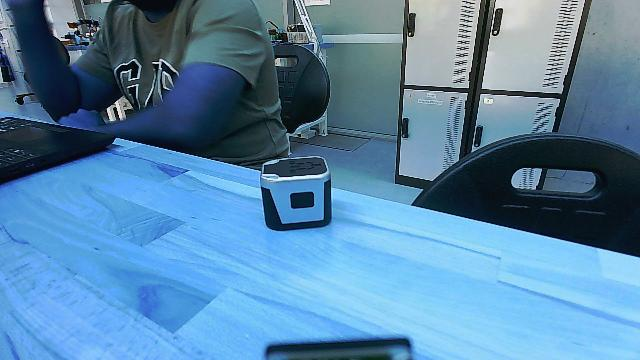adapter: (254, 153, 336, 231)
